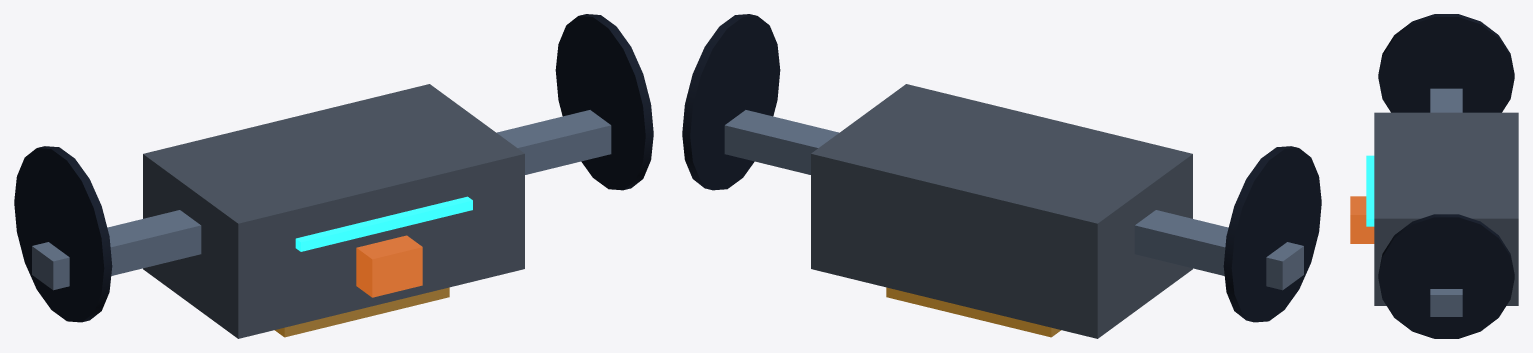
File: delivery_drone.glb
3 views of the same model, side by side, from view 1: azimuth 30°, elevation 25°; view 2: azimuth 150°, elevation 25°; view 3: azimuth 270°, elevation 25° (orthographic). The views are drawn at different scales.
Visible parts, largest first — view 1: delivery_drone_cargo_body, delivery_drone, delivery_drone_rotor_-1, delivery_drone_arm_-1, delivery_drone_sensor, delivery_drone_navigation_strip, delivery_drone_cargo_bay; view 2: delivery_drone_cargo_body, delivery_drone, delivery_drone_rotor_-1, delivery_drone_arm_-1, delivery_drone_cargo_bay; view 3: delivery_drone_cargo_body, delivery_drone, delivery_drone_rotor_-1, delivery_drone_sensor, delivery_drone_arm_-1, delivery_drone_navigation_strip.
Part boxes in pixels (left/top/right/bottom): delivery_drone_cargo_body: left=143, top=84, right=524, bottom=338; delivery_drone: left=497, top=14, right=653, bottom=190; delivery_drone_rotor_-1: left=14, top=146, right=112, bottom=322; delivery_drone_arm_-1: left=32, top=210, right=201, bottom=290; delivery_drone_sensor: left=356, top=235, right=422, bottom=297; delivery_drone_navigation_strip: left=295, top=196, right=472, bottom=251; delivery_drone_cargo_bay: left=274, top=287, right=449, bottom=337; delivery_drone_cargo_body: left=811, top=84, right=1192, bottom=338; delivery_drone: left=682, top=14, right=838, bottom=190; delivery_drone_rotor_-1: left=1223, top=146, right=1321, bottom=322; delivery_drone_arm_-1: left=1134, top=210, right=1303, bottom=290; delivery_drone_cargo_bay: left=886, top=287, right=1061, bottom=337; delivery_drone_cargo_body: left=1374, top=112, right=1518, bottom=305; delivery_drone: left=1378, top=214, right=1514, bottom=338; delivery_drone_rotor_-1: left=1378, top=14, right=1514, bottom=112; delivery_drone_sensor: left=1350, top=196, right=1374, bottom=243; delivery_drone_arm_-1: left=1430, top=88, right=1462, bottom=112; delivery_drone_navigation_strip: left=1366, top=155, right=1374, bottom=226.
Size of the model in its own units: 2.54 by 0.8548 by 0.84.
